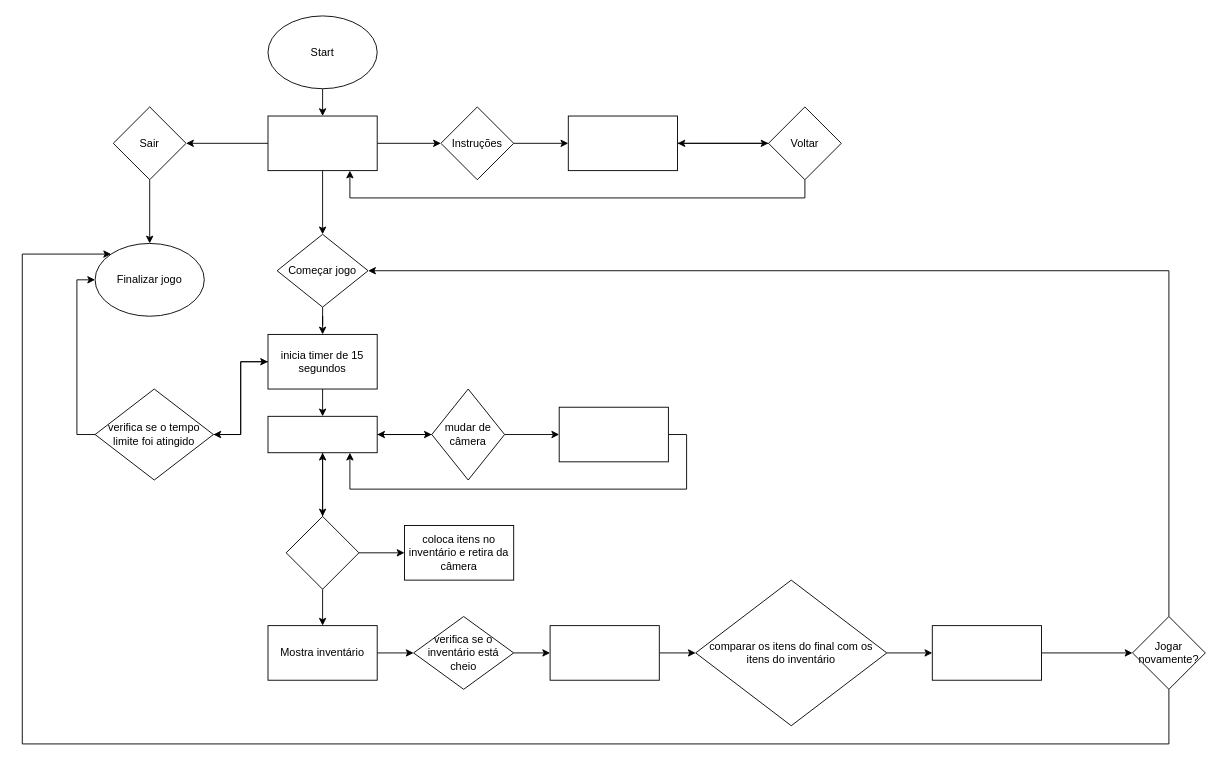
This 1221x767 diagram has some shape labels left out. Here are the shapes that lost their labels. From the top down, the centre of each, then its label:
At (x=322, y=143): "Tela de Menu".
At (x=622, y=143): "Tela de instruções".
At (x=322, y=434): "câmera atual".
At (x=613, y=434): "Troca a câmera atual e exibe a imagem e os itens da nova câmera".
At (x=322, y=552): "pegar Itens".
At (x=604, y=652): "escolher uma saída".
At (x=986, y=652): "mostra Final".
